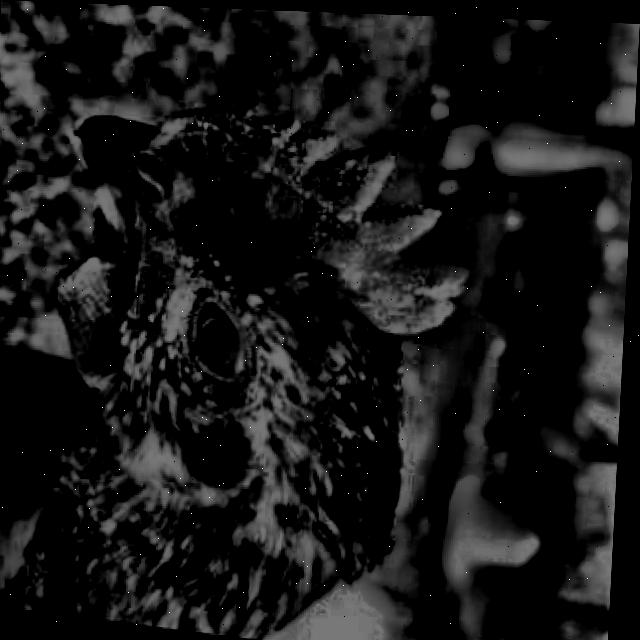Healthy: (174, 262, 266, 414)
